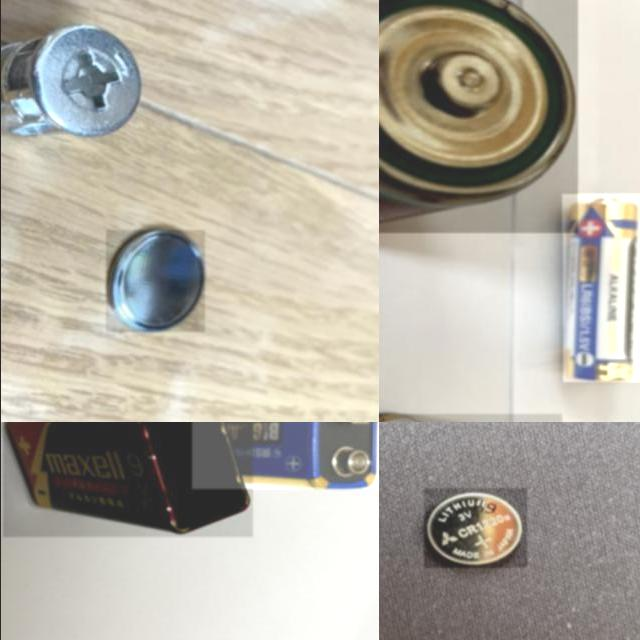9V: (2, 422, 252, 537), (191, 422, 378, 489)
